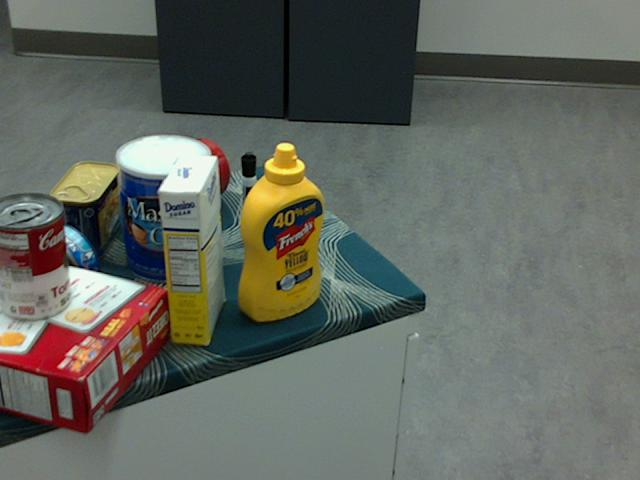cracker_box: (0, 248, 169, 433)
large_marker: (241, 151, 257, 245)
master_chef_can: (113, 134, 210, 284)
mug: (138, 138, 228, 217)
mustard_bottle: (237, 141, 324, 320)
potted_meat_can: (49, 160, 119, 262)
sugar_box: (156, 153, 225, 344)
tomato_soup_can: (0, 193, 70, 321)
tuna_fish_can: (17, 224, 99, 307)
